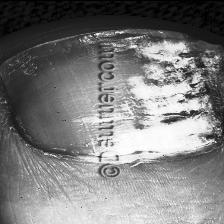Toxin: (116, 26, 224, 174)
